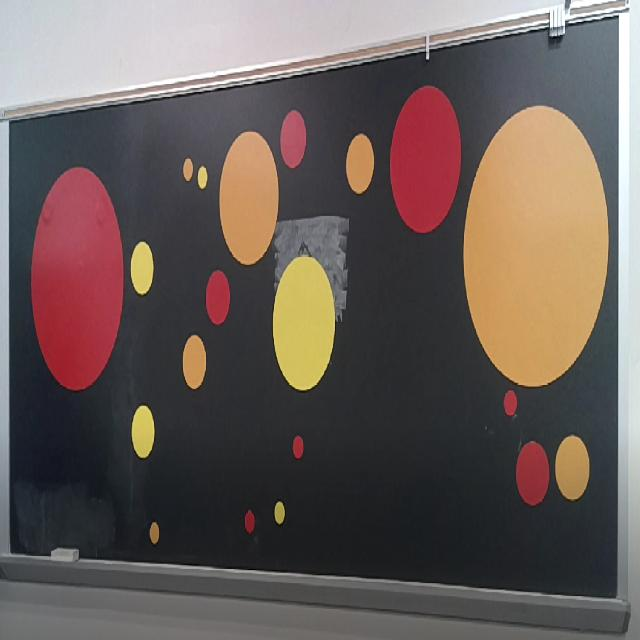Orange: (464, 102, 610, 388), (220, 131, 278, 268), (555, 436, 589, 500), (346, 133, 374, 194), (182, 335, 206, 390), (183, 158, 193, 180), (150, 522, 160, 544)
Red: (30, 167, 124, 390), (389, 86, 462, 234), (515, 441, 549, 507), (280, 109, 307, 170), (206, 270, 230, 324), (503, 389, 518, 417), (292, 435, 304, 460), (244, 510, 255, 533)
Yellow: (273, 256, 335, 392), (130, 242, 154, 295), (132, 406, 155, 459), (274, 501, 285, 524), (198, 166, 208, 189)
